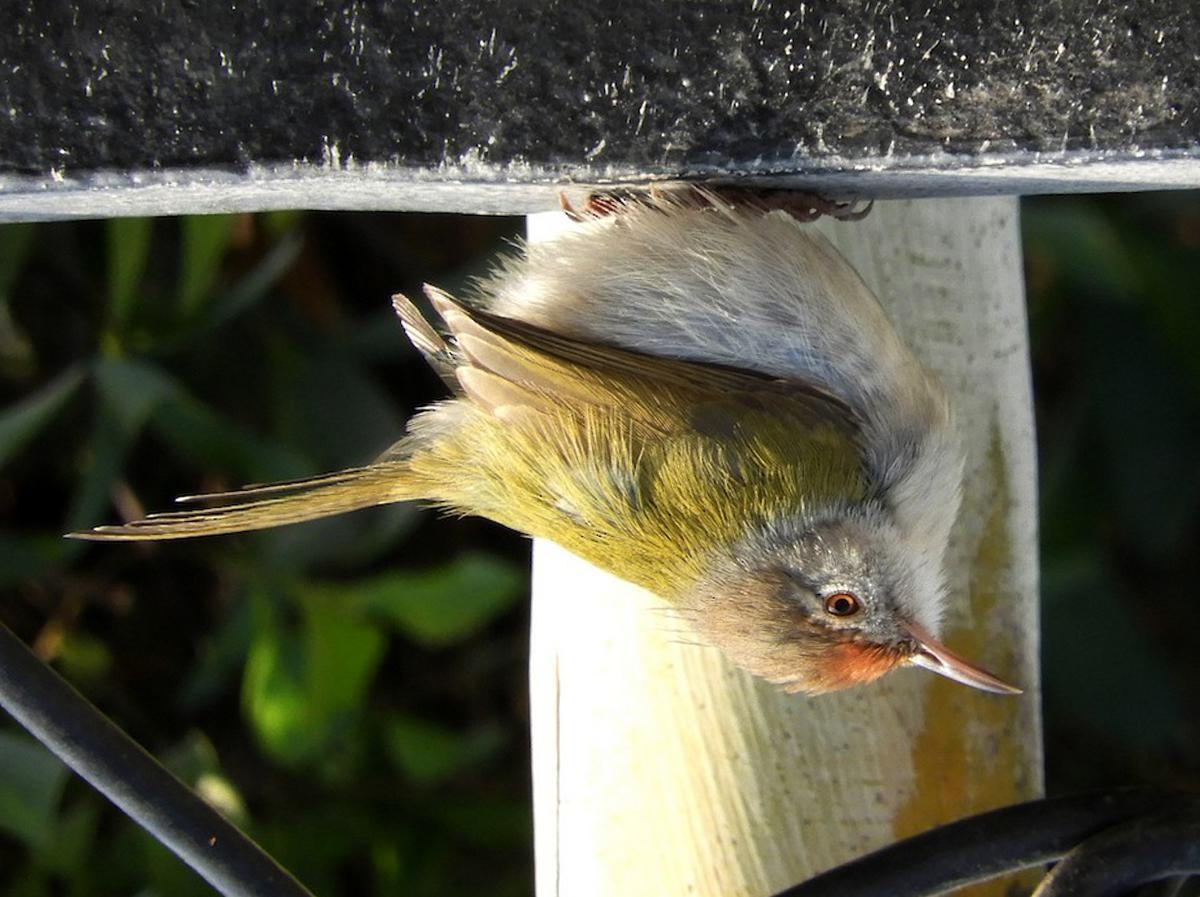tailorbird: (79, 164, 1080, 716)
